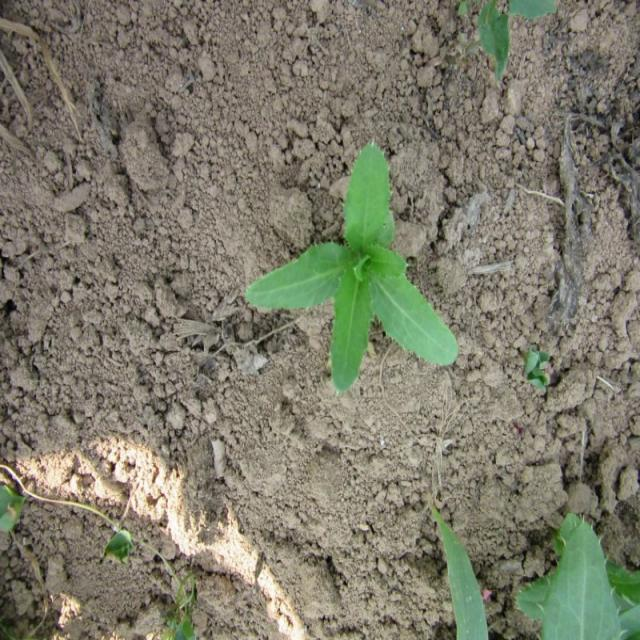cs: (242, 136, 462, 392)
